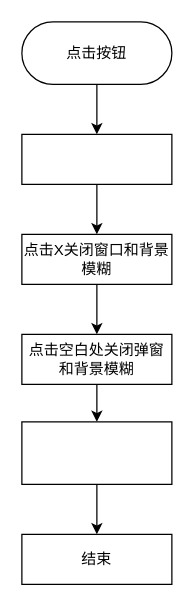
Image size: 194x606. Some labels were removed from this diagram. Each missing label, with the centre of its shape:
"弹出modal弹窗 背景模糊" goes at point 96,158.
"键盘事件：按下ESC键关闭弹窗和背景模糊" goes at point 96,452.
